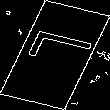L_E: (15, 32, 95, 78)
